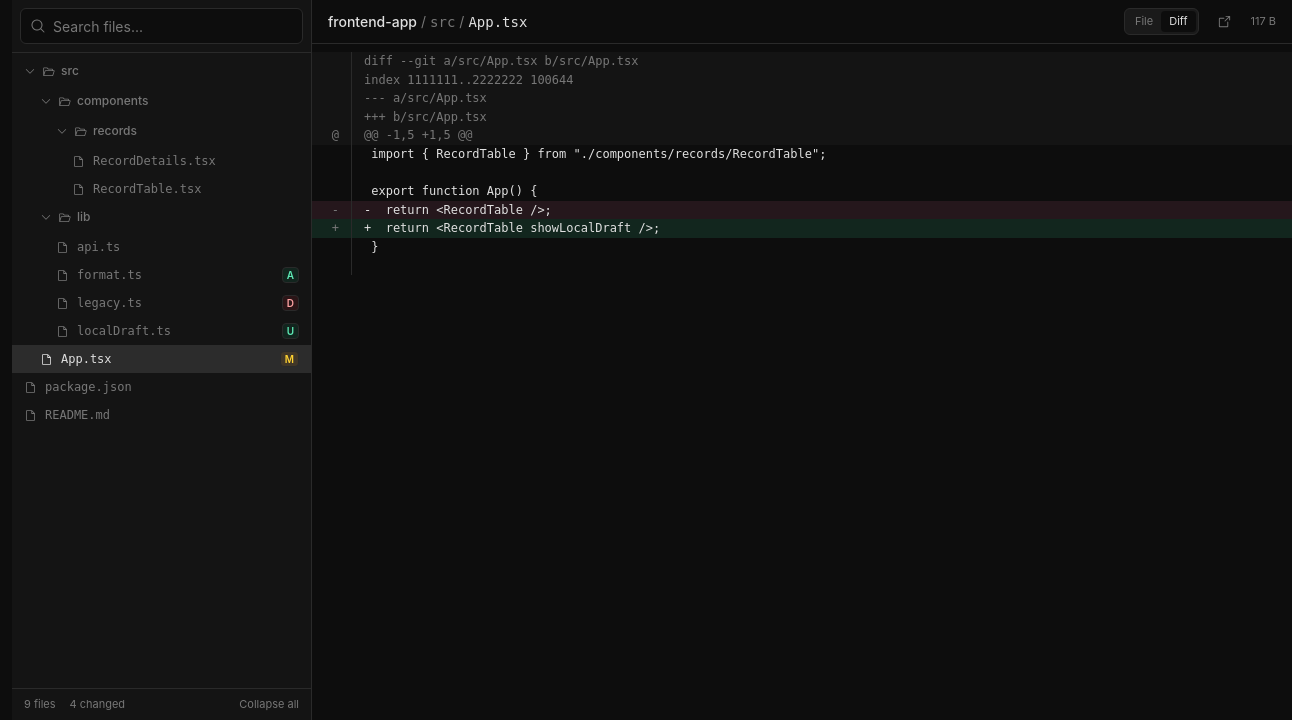
RepositoryExplorerPanel › collapses and expands folders from the tree
Expected: the button "App.tsx M" is shown, [12, 345, 311, 373]
Step 1. Click the 2nd button "src" → {"x": 30, "y": 71}, box [12, 57, 311, 85]
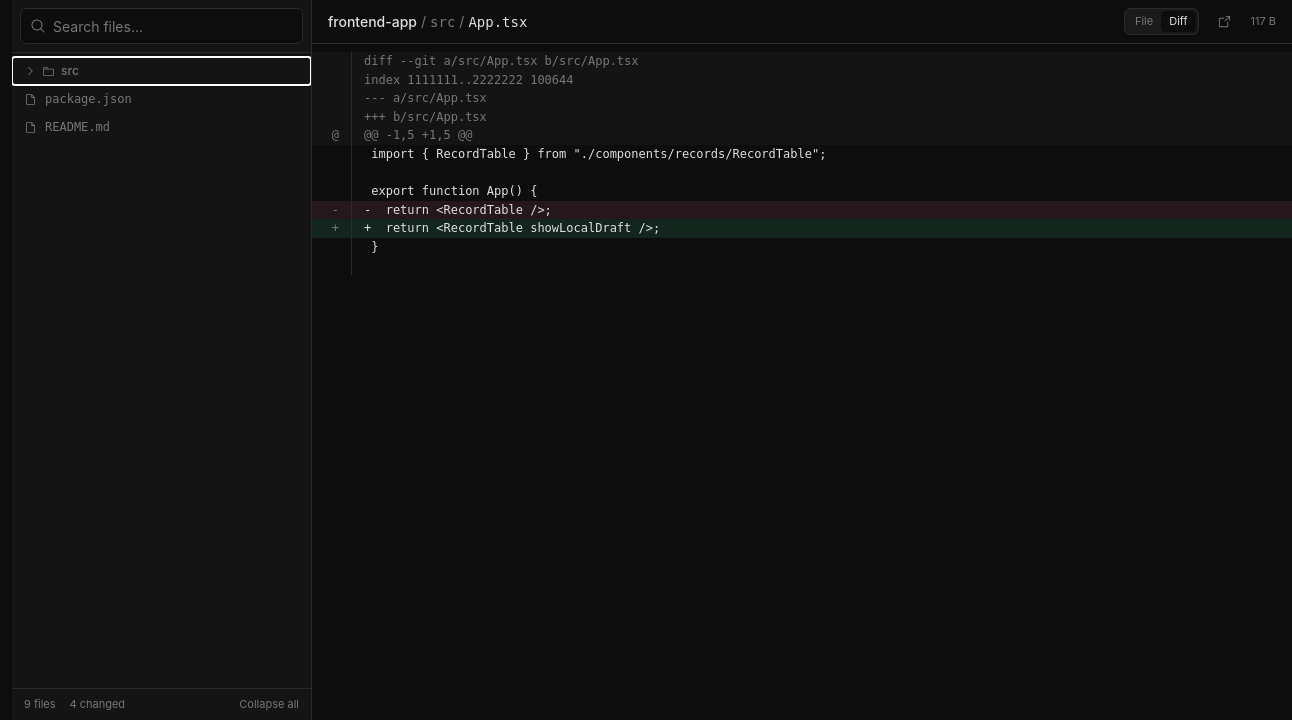
Step 2. Click the 2nd button "src" → {"x": 30, "y": 71}, box [12, 57, 311, 85]
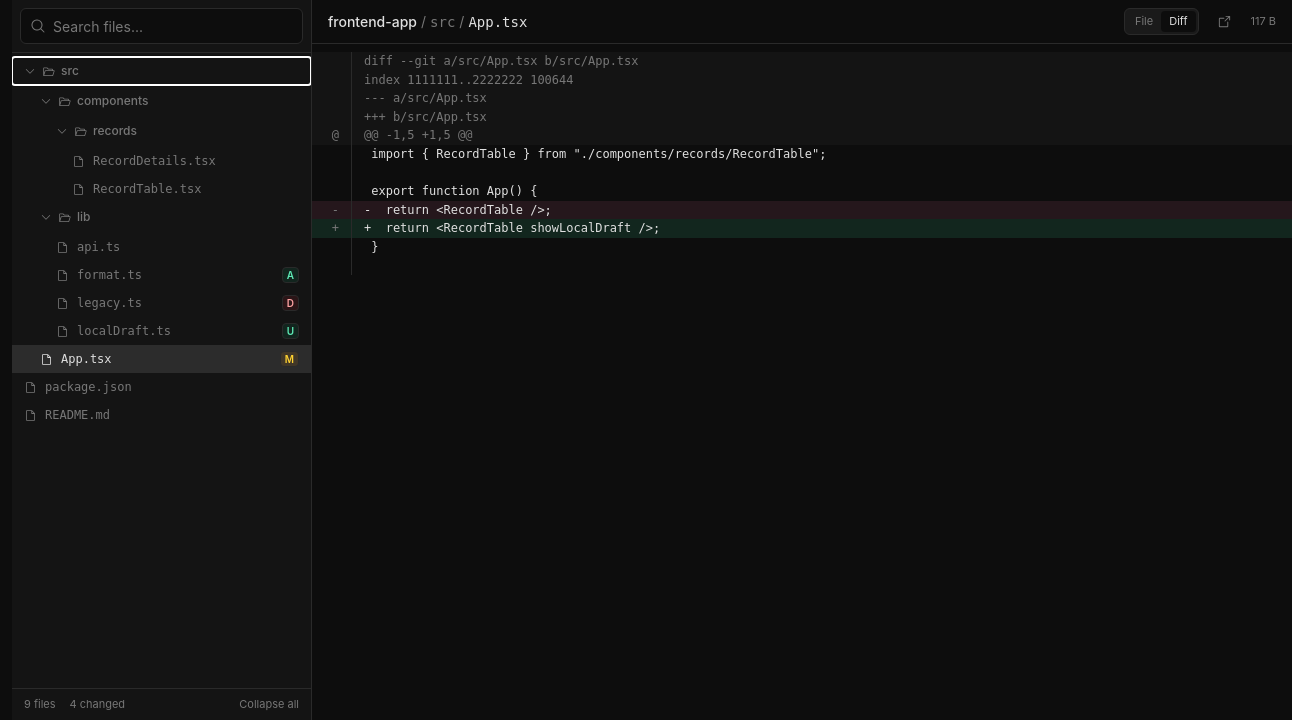
Now the button "App.tsx M" is shown, box [12, 345, 311, 373]
